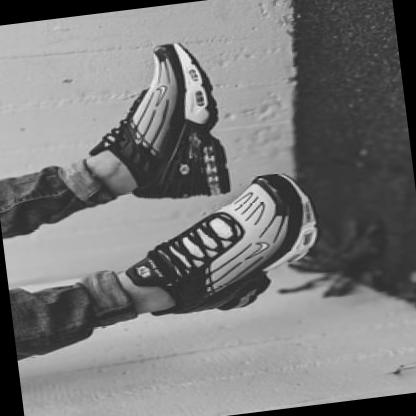ankle: (163, 303, 171, 308), (113, 168, 117, 170)
heel: (202, 175, 213, 180), (240, 303, 244, 306)
left_foot: (94, 38, 236, 194)
pinky: (285, 234, 292, 239), (157, 58, 161, 62)
right_foot: (140, 171, 327, 318)
toe: (251, 186, 261, 191), (171, 50, 177, 55)
